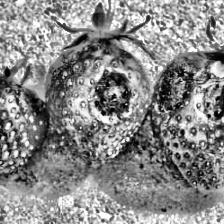Anthracnose Fruit Rot: (153, 55, 224, 152), (90, 74, 136, 118), (10, 83, 43, 117)
